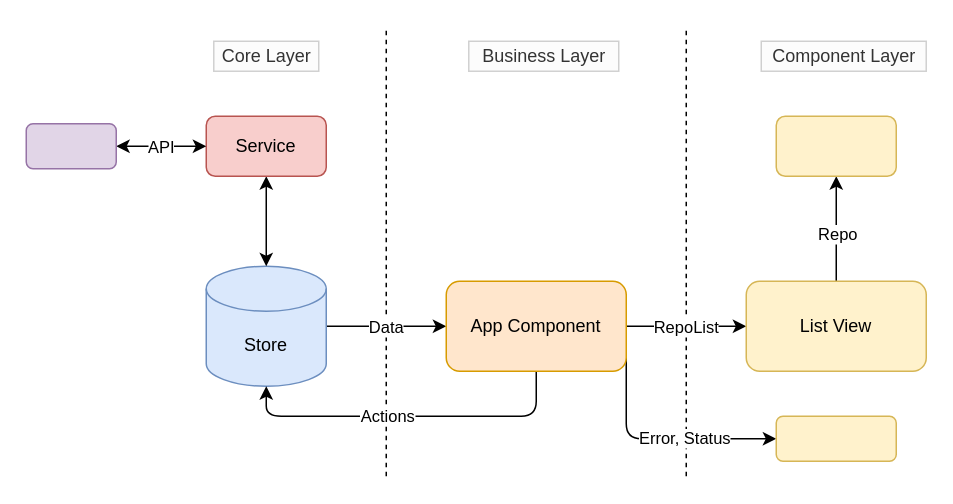
Some shapes in this 953 by 504 pixel diagram are drawn without their labels. The box of each missing label's shape, as (x1, y1, x2, y2) in pixels:
Cards: (775, 115, 896, 176)
Error: (775, 415, 896, 461)
GitHub: (25, 122, 116, 169)
